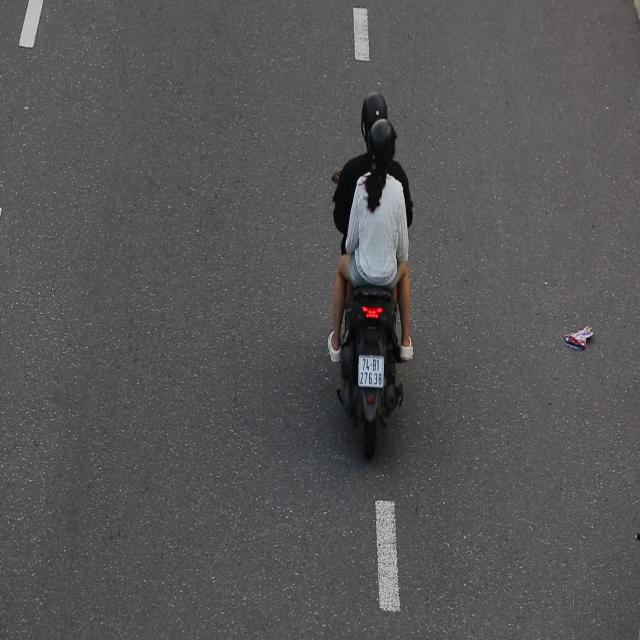motorbike: (325, 87, 429, 476)
